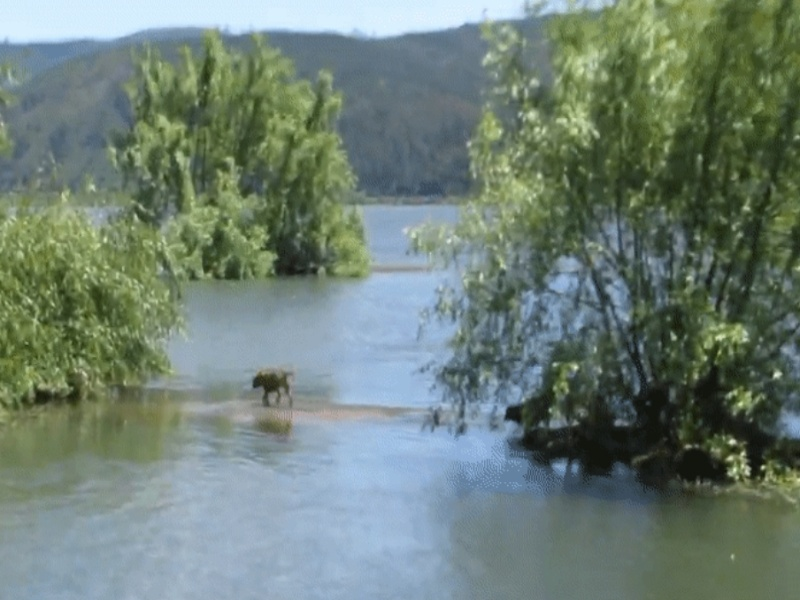dog: (247, 369, 303, 414)
